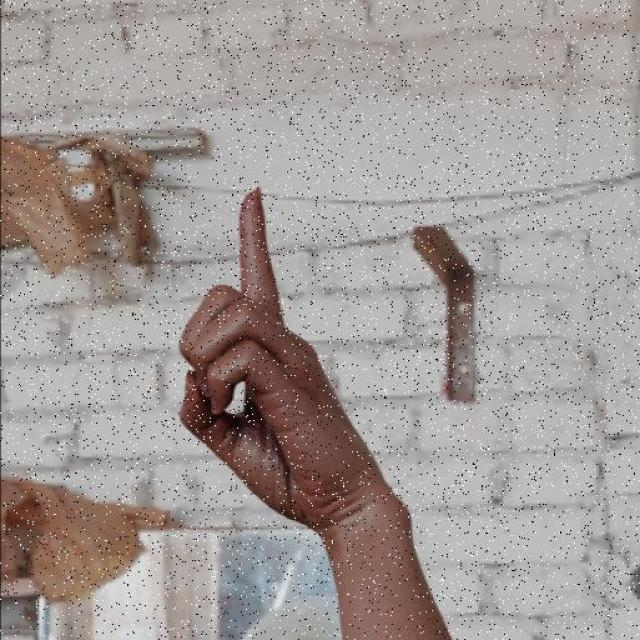D: (176, 184, 414, 540)
